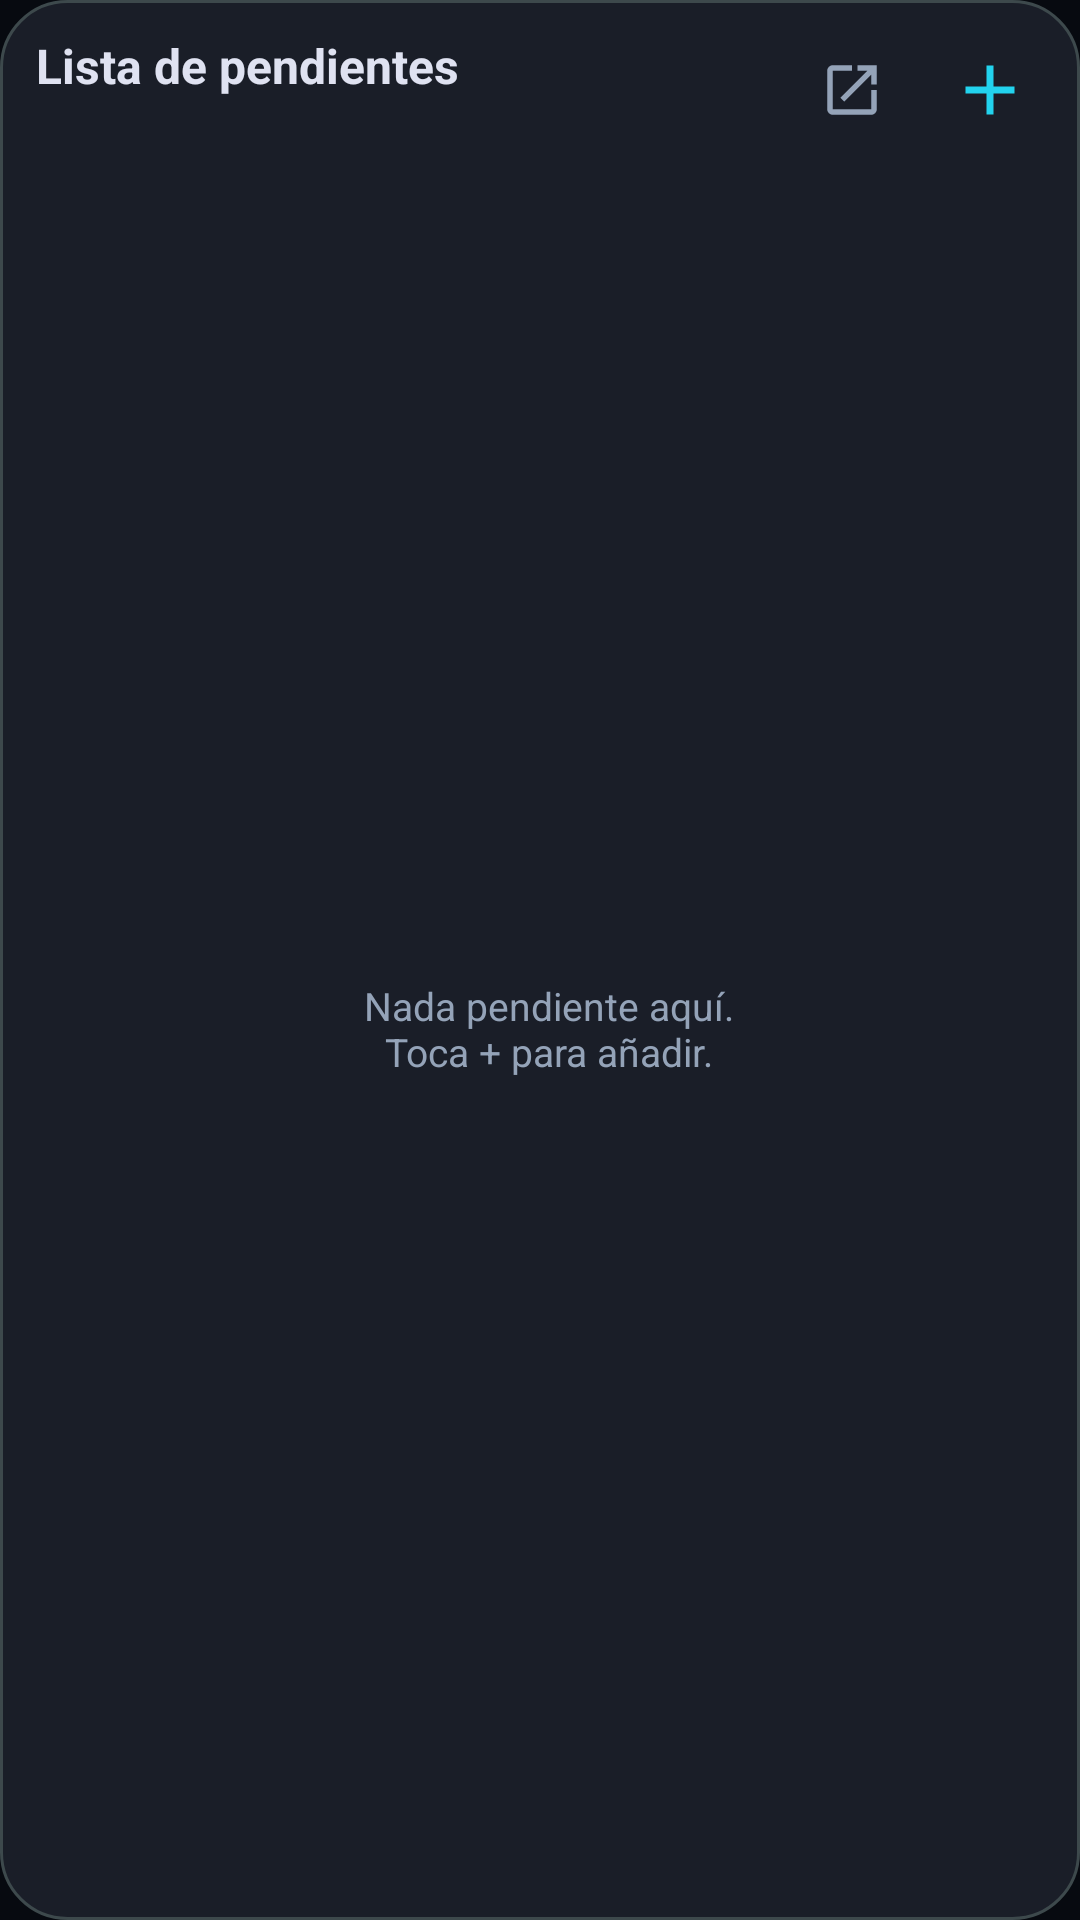

Named icons in this screenshot (1080x1920) and their centers, (x,y):
Abrir mis listas en Nexus Orb: (852,90)
